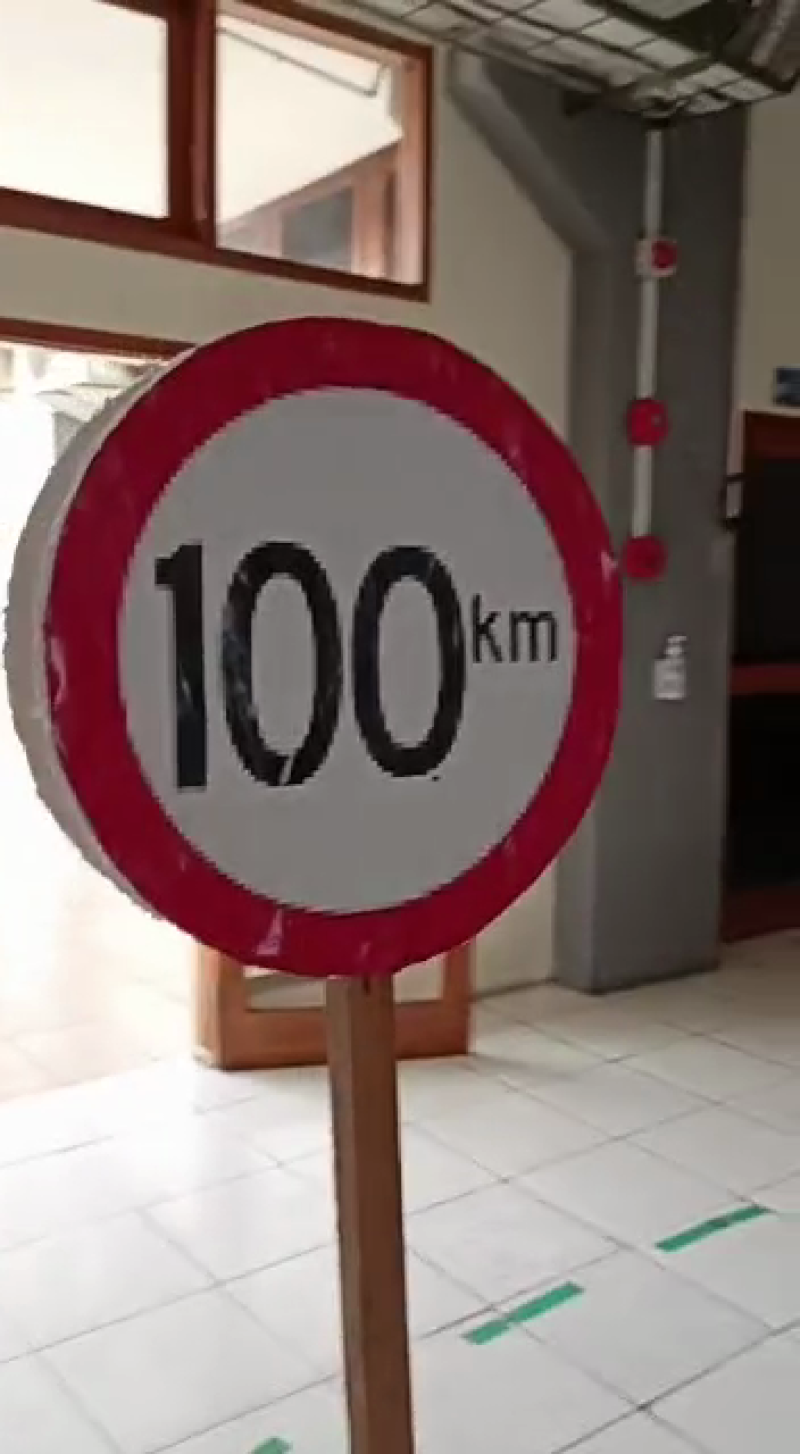batas maksimal 100kmperjam: (57, 314, 631, 979)
